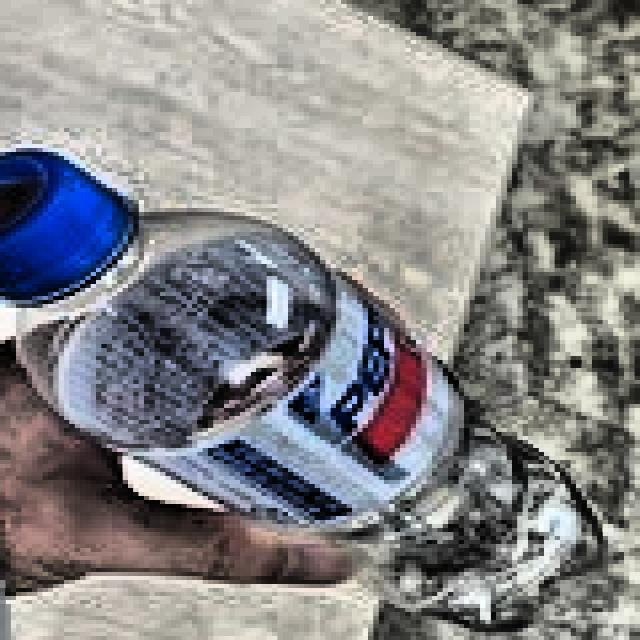plastic: (0, 124, 608, 640)
